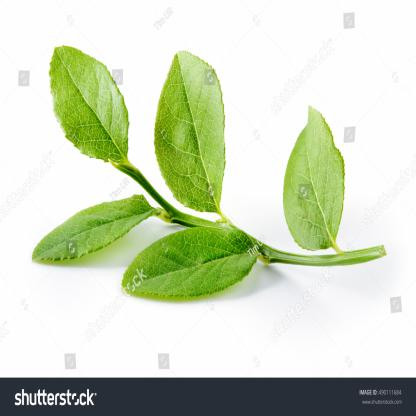blueberry leaf: (149, 38, 235, 219), (118, 222, 262, 312), (45, 38, 140, 164), (281, 100, 344, 255), (25, 198, 163, 265)
